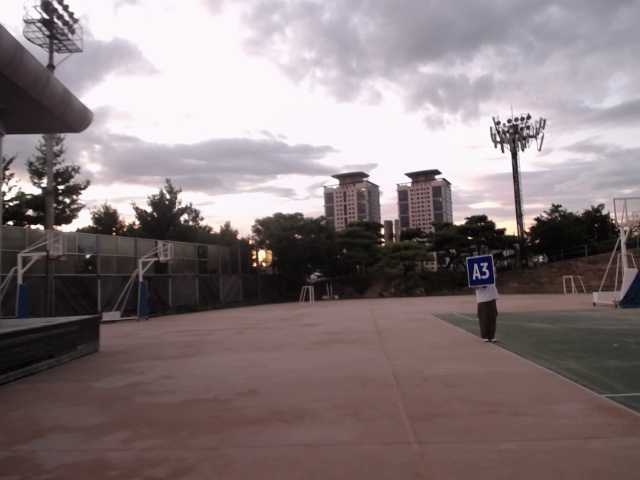delivery_a3: (468, 256, 495, 287)
